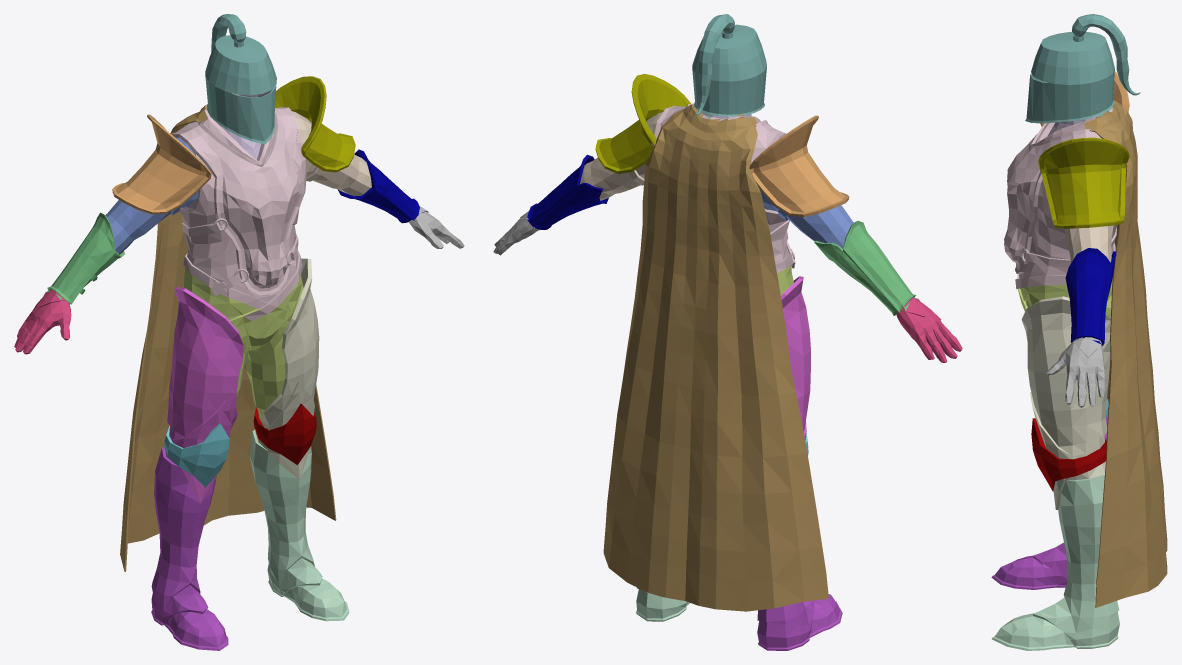
File: full_5.glb
3 renders of one model, left to right at view 1: azimuth 30°, elevation 25°; view 2: azimuth 150°, elevation 25°; view 3: azimuth 270°, elevation 25°, orthographic. The views are drawn at different scales.
Visible parts, largest first — view 1: world; view 2: world; view 3: world.
Boxes of the visible parts, bbox=[...] form: world: bbox=[14, 14, 464, 650]; world: bbox=[493, 14, 962, 650]; world: bbox=[991, 14, 1167, 650].
Size of the model in its own units: 0.6084 by 0.7666 by 0.2055.
